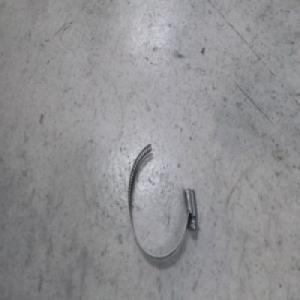AdjustableClamp: (125, 141, 195, 260)
